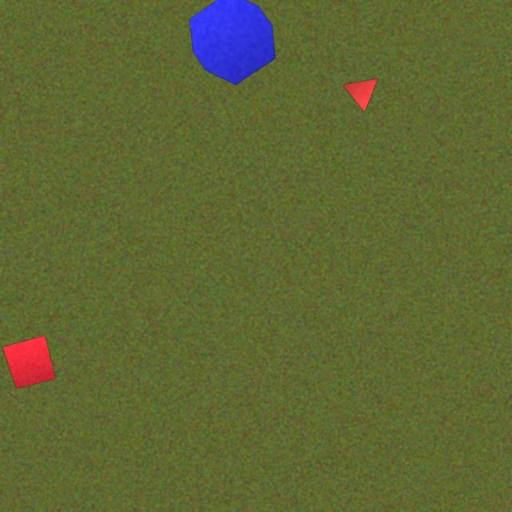RED_SQUARE: (2, 335, 56, 389)
